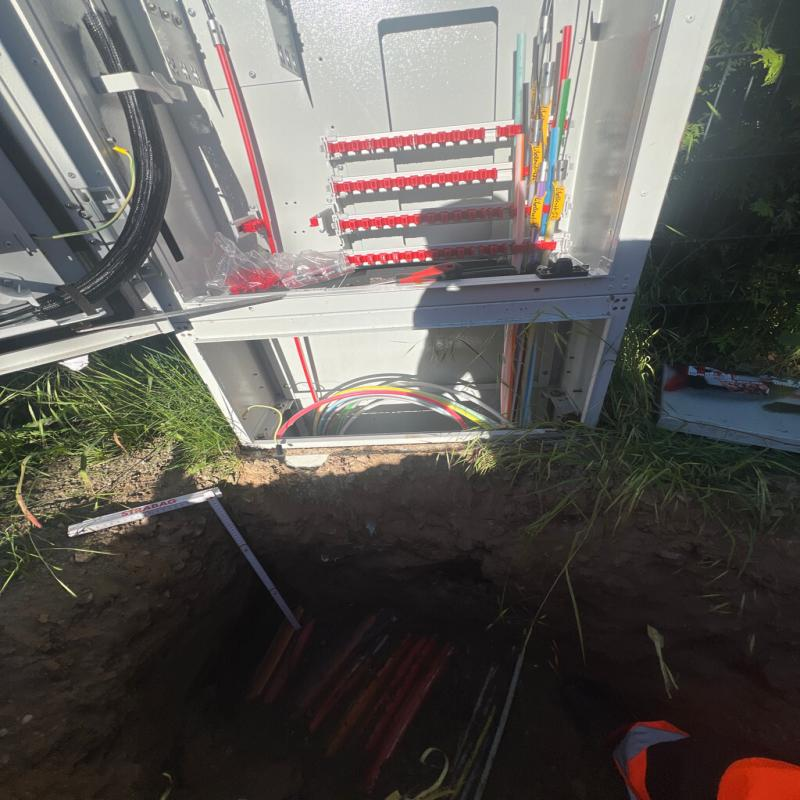NT-Gehause: (2, 0, 725, 447)
Orang-Speednetrohrchen: (303, 638, 454, 782)
